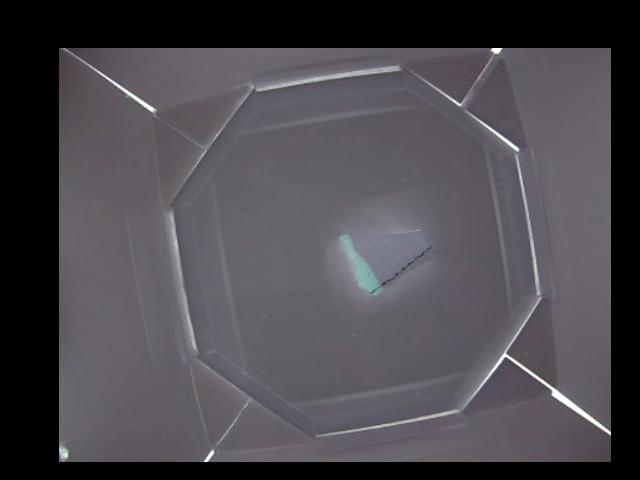China: (337, 221, 437, 294)
